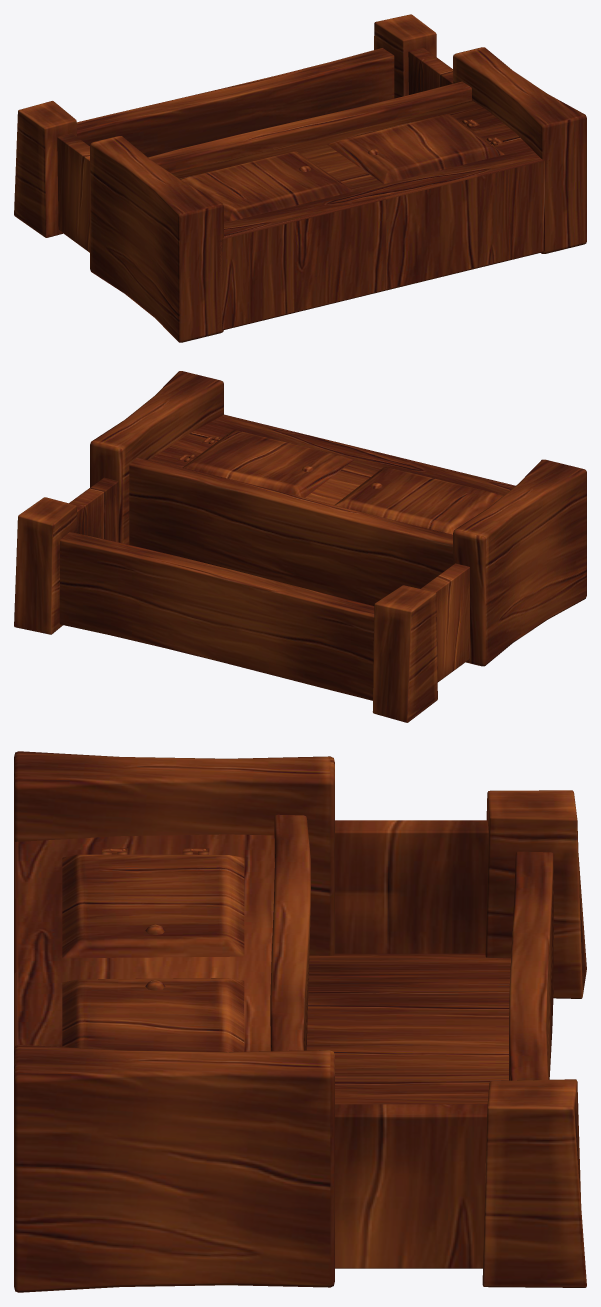
Rendered from Mesada Cocina Fin.FBX.
The picture shows the model from 3 angles, top to bottom: view 1: azimuth 30°, elevation 25°; view 2: azimuth 150°, elevation 25°; view 3: azimuth 270°, elevation 25°; orthographic projection. The views are drawn at different scales.
Parts seen in each view (by area): view 1: Mesada Cocina; view 2: Mesada Cocina; view 3: Mesada Cocina.
Part boxes in pixels (x1,y1,x2,y2): Mesada Cocina: (14, 14, 586, 342); Mesada Cocina: (14, 371, 586, 722); Mesada Cocina: (14, 751, 586, 1292).
Size of the model in its own units: 259 by 78.76 by 190.
Materials: 1 (1 with a texture image).
